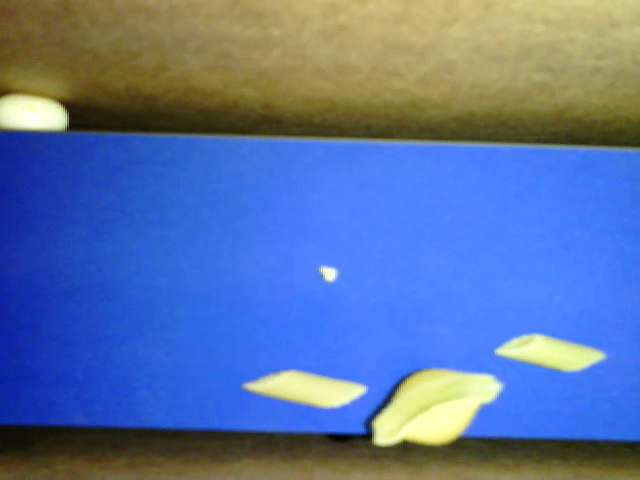penne: (241, 368, 366, 410), (493, 332, 607, 374)
shell: (369, 368, 503, 448)
